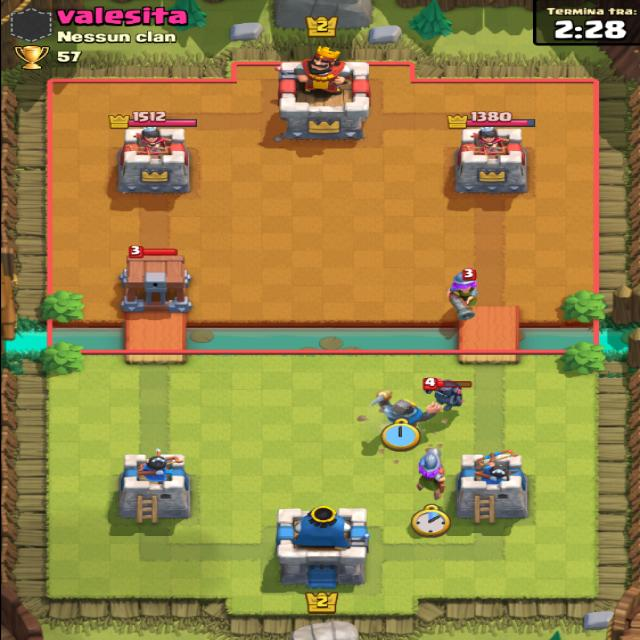Enemy-GoblinCage: (114, 246, 196, 317)
Enemy-MiniPEKKA: (424, 372, 466, 414)
Enemy-Musketeer: (447, 268, 487, 320)
Player-Knight: (369, 382, 443, 449)
Player-Musketeer: (412, 439, 453, 499)
